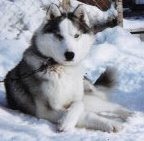dog: (1, 0, 143, 136)
